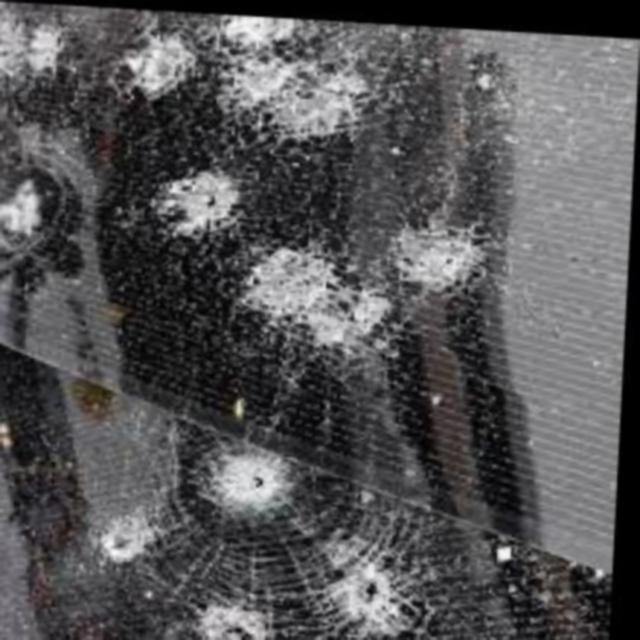cracked: (1, 1, 630, 640)
